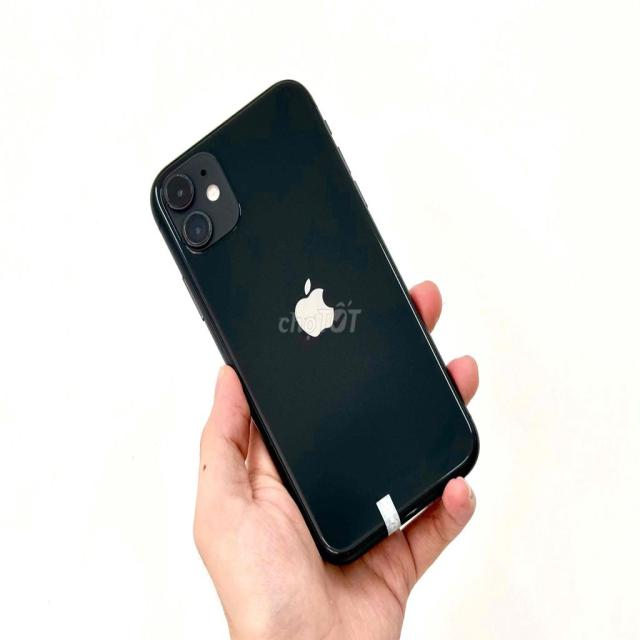gen_11: (151, 73, 483, 563)
